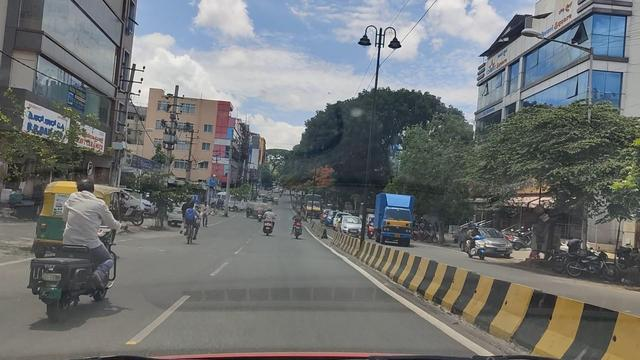LMV: (32, 175, 122, 325)
